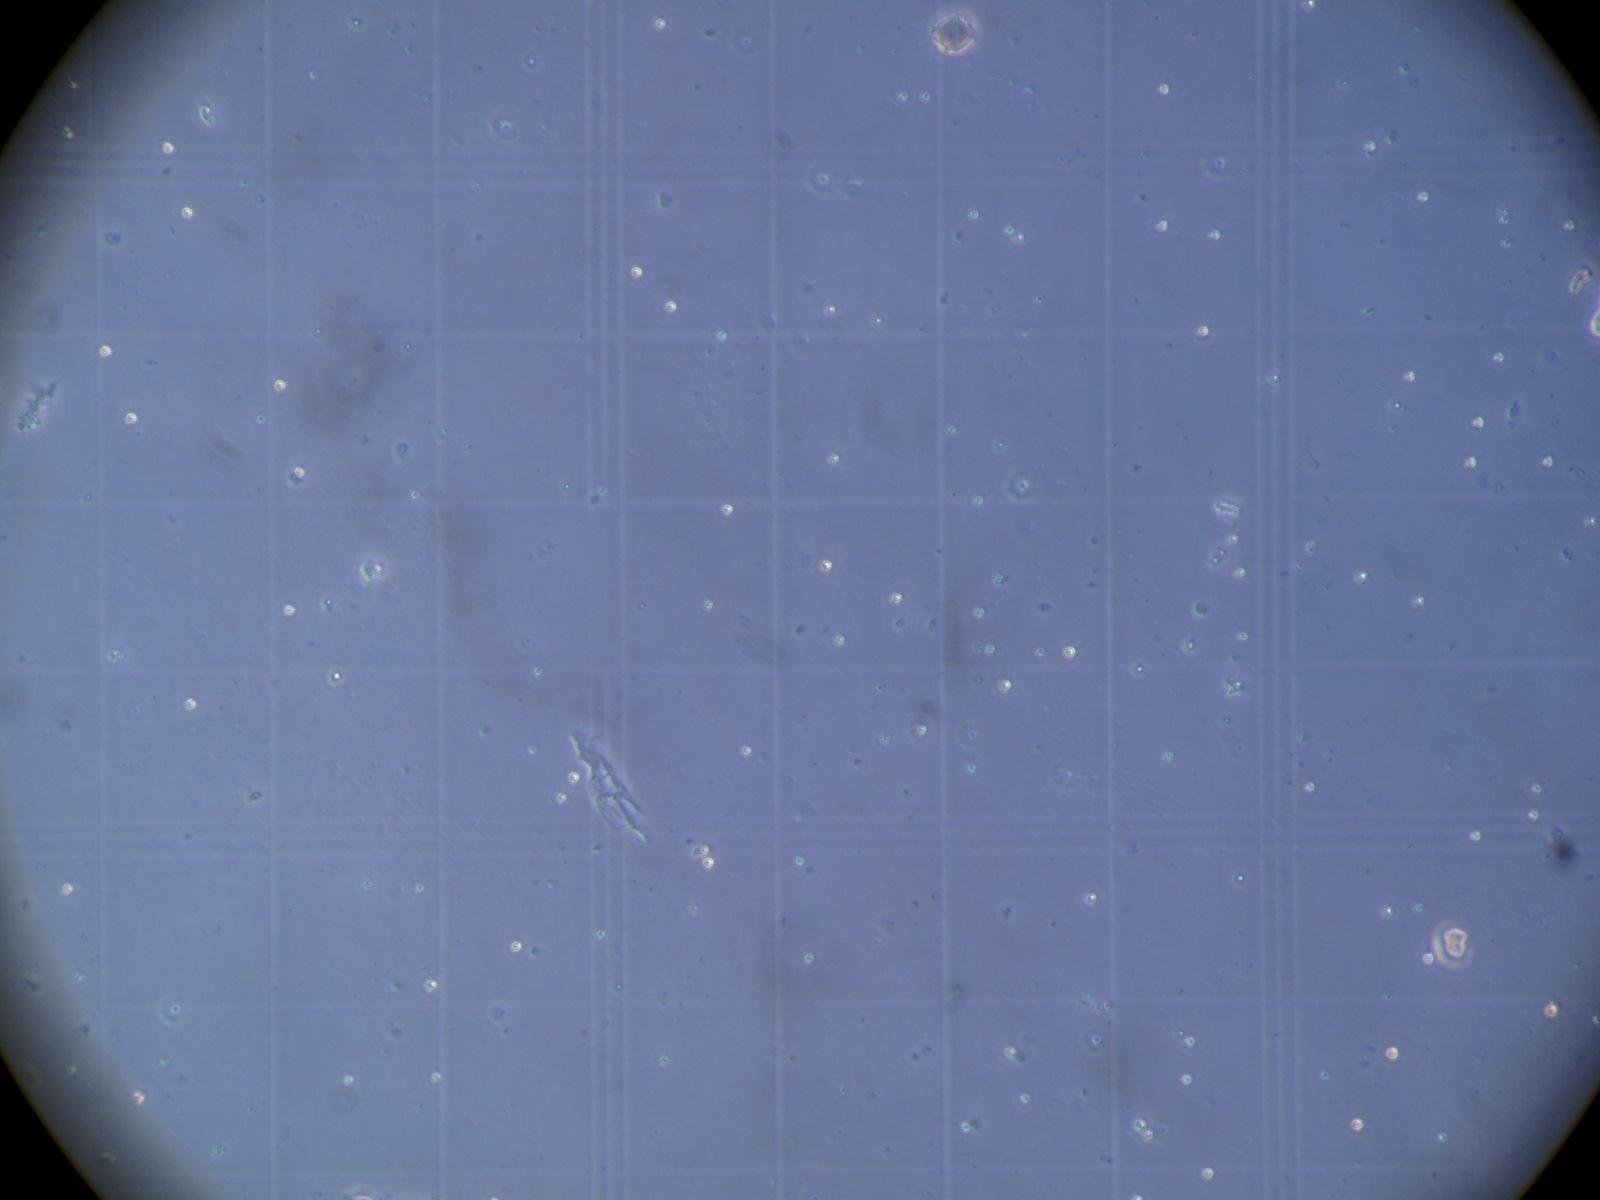virusw: (1557, 216, 1579, 234), (289, 465, 307, 485), (1526, 776, 1545, 795), (1378, 903, 1397, 920), (1487, 349, 1508, 364), (1382, 1046, 1401, 1063), (340, 1070, 357, 1089), (1540, 454, 1556, 471), (1351, 568, 1369, 584), (1470, 412, 1485, 431), (1398, 369, 1417, 384), (273, 376, 289, 395), (1015, 1092, 1032, 1108), (888, 591, 905, 608), (816, 558, 833, 575), (96, 343, 112, 359), (1222, 531, 1240, 546), (712, 326, 729, 342), (1470, 827, 1484, 846), (1543, 1005, 1558, 1021), (1179, 1073, 1196, 1088), (1081, 892, 1097, 908), (159, 140, 175, 155), (122, 411, 139, 426), (282, 603, 299, 618), (1414, 192, 1431, 205), (896, 87, 910, 105), (1151, 83, 1170, 96), (1411, 592, 1426, 608), (871, 313, 886, 328), (663, 299, 678, 314), (179, 205, 194, 221), (184, 697, 199, 712), (1349, 1118, 1363, 1134), (1524, 809, 1541, 823), (1002, 1047, 1018, 1061), (1461, 456, 1478, 470), (1361, 139, 1377, 153), (825, 453, 842, 466), (425, 978, 438, 995), (1299, 1, 1317, 14), (1201, 1166, 1214, 1181), (1421, 950, 1435, 966), (959, 1121, 973, 1136), (1182, 638, 1196, 653), (1154, 219, 1169, 233), (964, 760, 978, 775), (1000, 678, 1014, 693), (973, 606, 986, 621), (740, 742, 753, 758), (821, 304, 837, 318), (328, 671, 343, 684), (59, 884, 74, 897), (554, 789, 567, 805), (627, 267, 644, 280), (1235, 870, 1246, 887), (428, 1071, 442, 1085), (653, 16, 666, 30), (833, 632, 845, 647), (1143, 1128, 1154, 1145), (1134, 1117, 1146, 1131), (1134, 663, 1146, 677), (1502, 237, 1516, 250), (1207, 229, 1220, 243), (1063, 647, 1076, 661), (791, 855, 805, 867), (915, 722, 927, 736), (567, 770, 580, 784), (721, 504, 734, 517), (702, 597, 714, 611), (966, 208, 980, 221), (1032, 645, 1047, 657), (1303, 782, 1315, 794), (803, 953, 815, 966), (973, 495, 985, 508), (1232, 567, 1246, 579), (922, 91, 934, 105), (1183, 1037, 1198, 1047), (1002, 224, 1014, 236), (1198, 324, 1208, 338), (511, 940, 522, 953), (703, 858, 716, 868), (947, 424, 957, 436), (986, 644, 997, 654)
